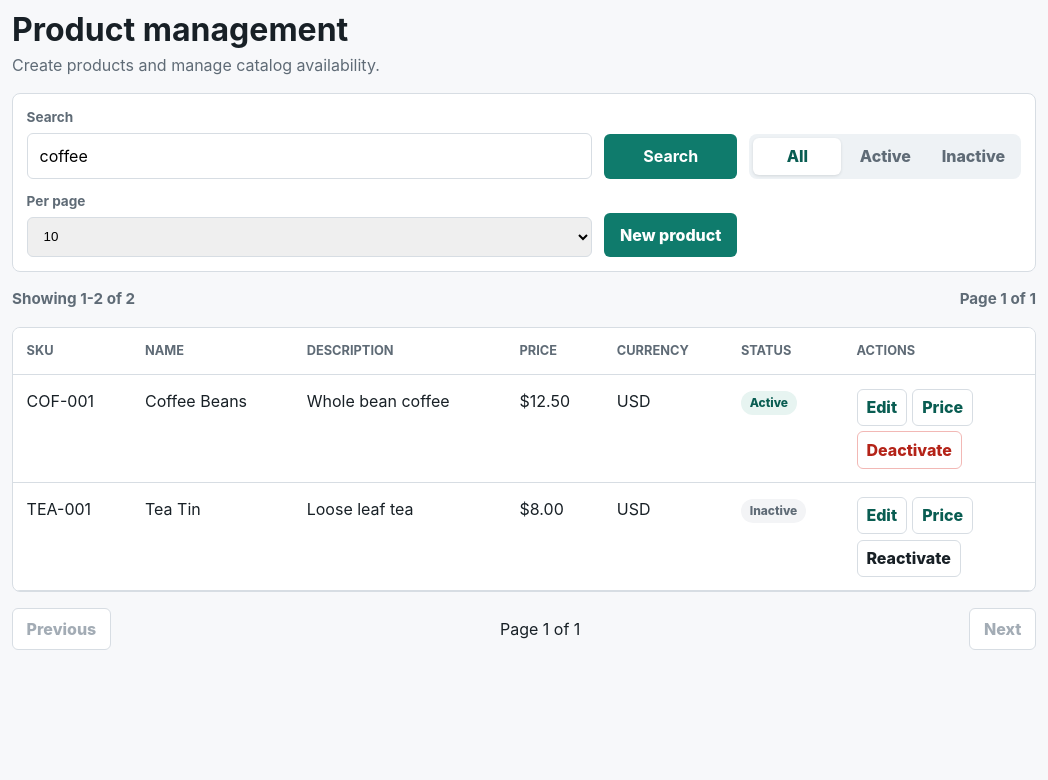
Test: AdminProductsPageComponent › reactivates inactive products and refreshes the list after confirmation
Click the button with class "compact": click(909, 558) x1=857 y1=540 x2=961 y2=577
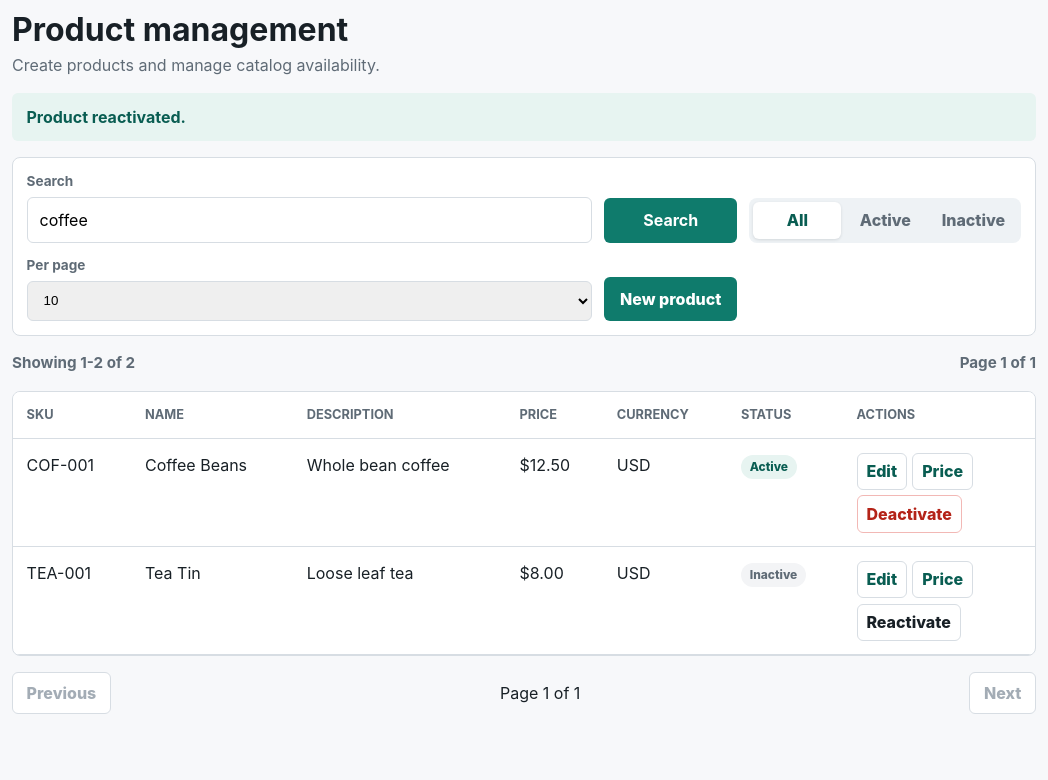
expect the text "Product reactivated." is shown: met, box x1=12 y1=93 x2=1036 y2=141
